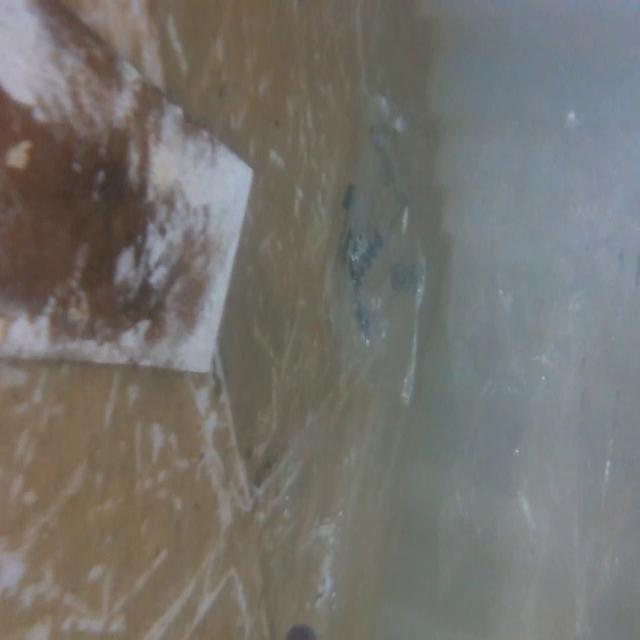plastic bags: (324, 91, 434, 409)
